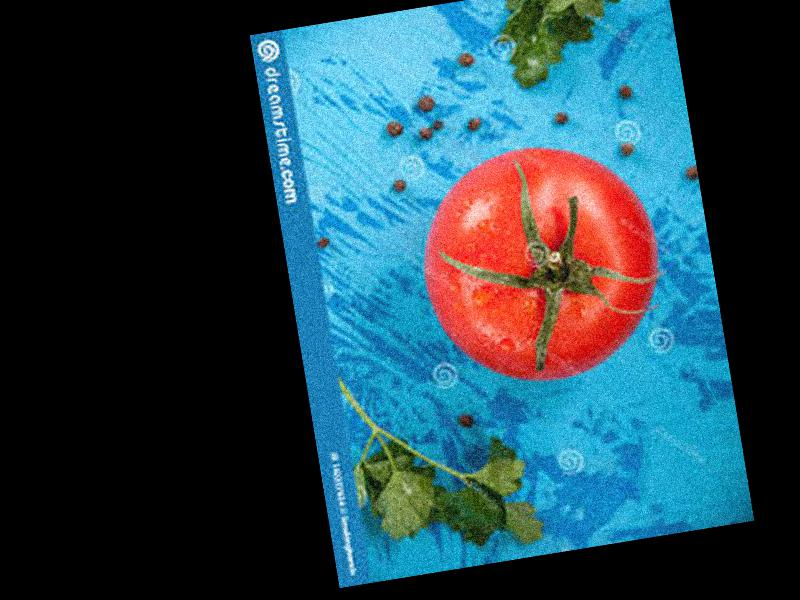Tomato: (407, 131, 674, 397)
